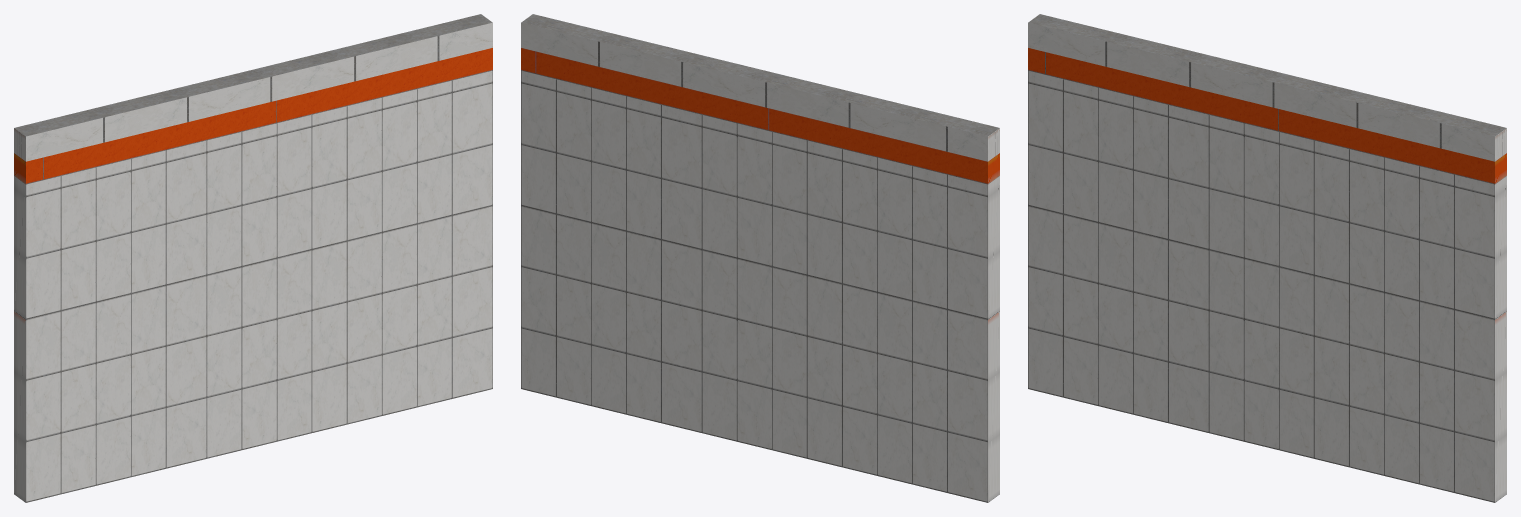
File: Wall_2.fbx
The picture shows the model from 3 angles, left to right: view 1: azimuth 30°, elevation 25°; view 2: azimuth 150°, elevation 25°; view 3: azimuth 330°, elevation 25°; orthographic projection.
Parts seen in each view (by area): view 1: Wall_2; view 2: Wall_2; view 3: Wall_2.
Boxes of the visible parts, x1,y1,x2,y2 form: Wall_2: (14, 14, 492, 502); Wall_2: (521, 14, 999, 502); Wall_2: (1028, 14, 1506, 502).
Bounding box in the file's own units: 4 × 3 × 0.175.
